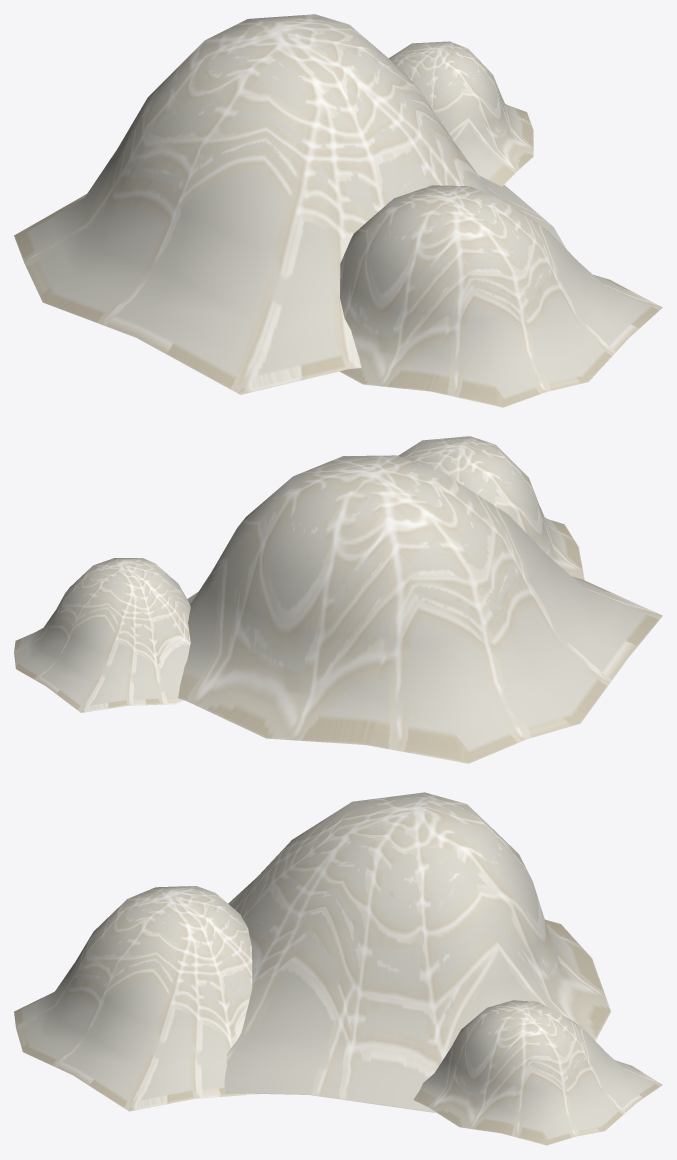
Rendered from WebMesh02.fbx.
The picture shows the model from 3 angles, top to bottom: view 1: azimuth 30°, elevation 25°; view 2: azimuth 150°, elevation 25°; view 3: azimuth 270°, elevation 25°; orthographic projection. The views are drawn at different scales.
Parts seen in each view (by area): view 1: Web; view 2: Web; view 3: Web.
Part boxes in pixels (<box>): Web: <box>14,14,662,407</box>; Web: <box>14,436,662,763</box>; Web: <box>14,792,662,1145</box>.
Size of the model in its own units: 3.34 by 1.27 by 3.7.
